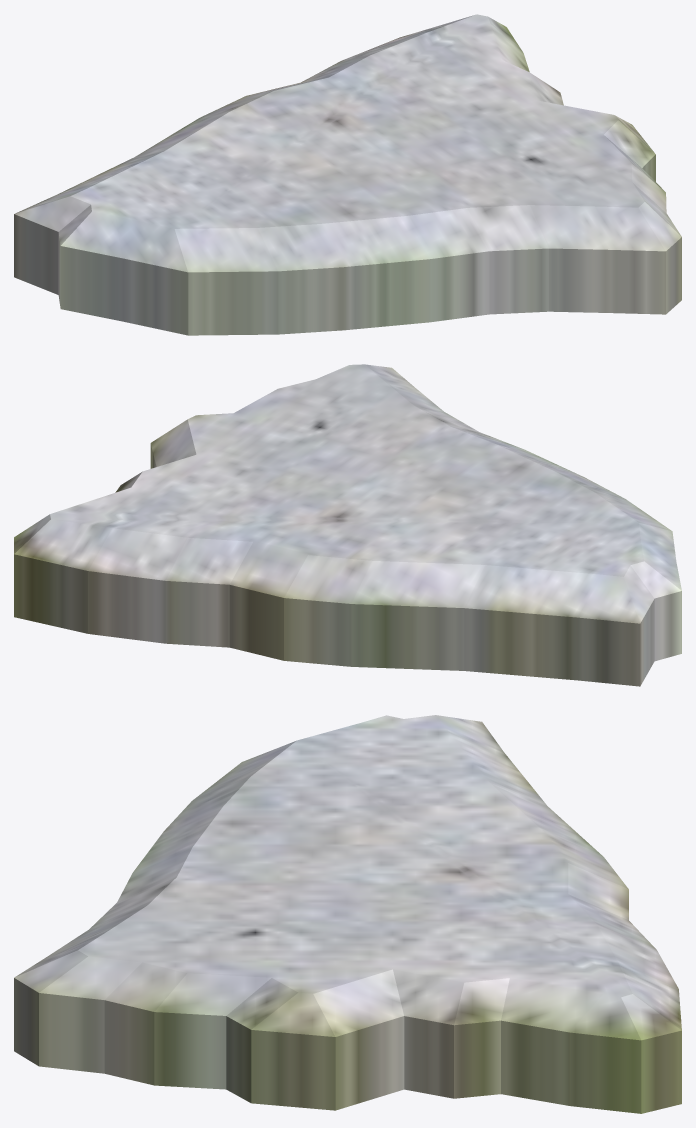
The model's file is stone.20.fbx.
The picture shows the model from 3 angles, top to bottom: view 1: azimuth 30°, elevation 25°; view 2: azimuth 150°, elevation 25°; view 3: azimuth 270°, elevation 25°; orthographic projection. The views are drawn at different scales.
Visible parts, largest first — view 1: stone.20; view 2: stone.20; view 3: stone.20.
Part boxes in pixels (bbox=[...]): stone.20: bbox=[14, 14, 681, 335]; stone.20: bbox=[14, 364, 681, 686]; stone.20: bbox=[14, 715, 681, 1113].
Size of the model in its own units: 65.87 by 9.74 by 58.37.
1 material, 1 textured.
